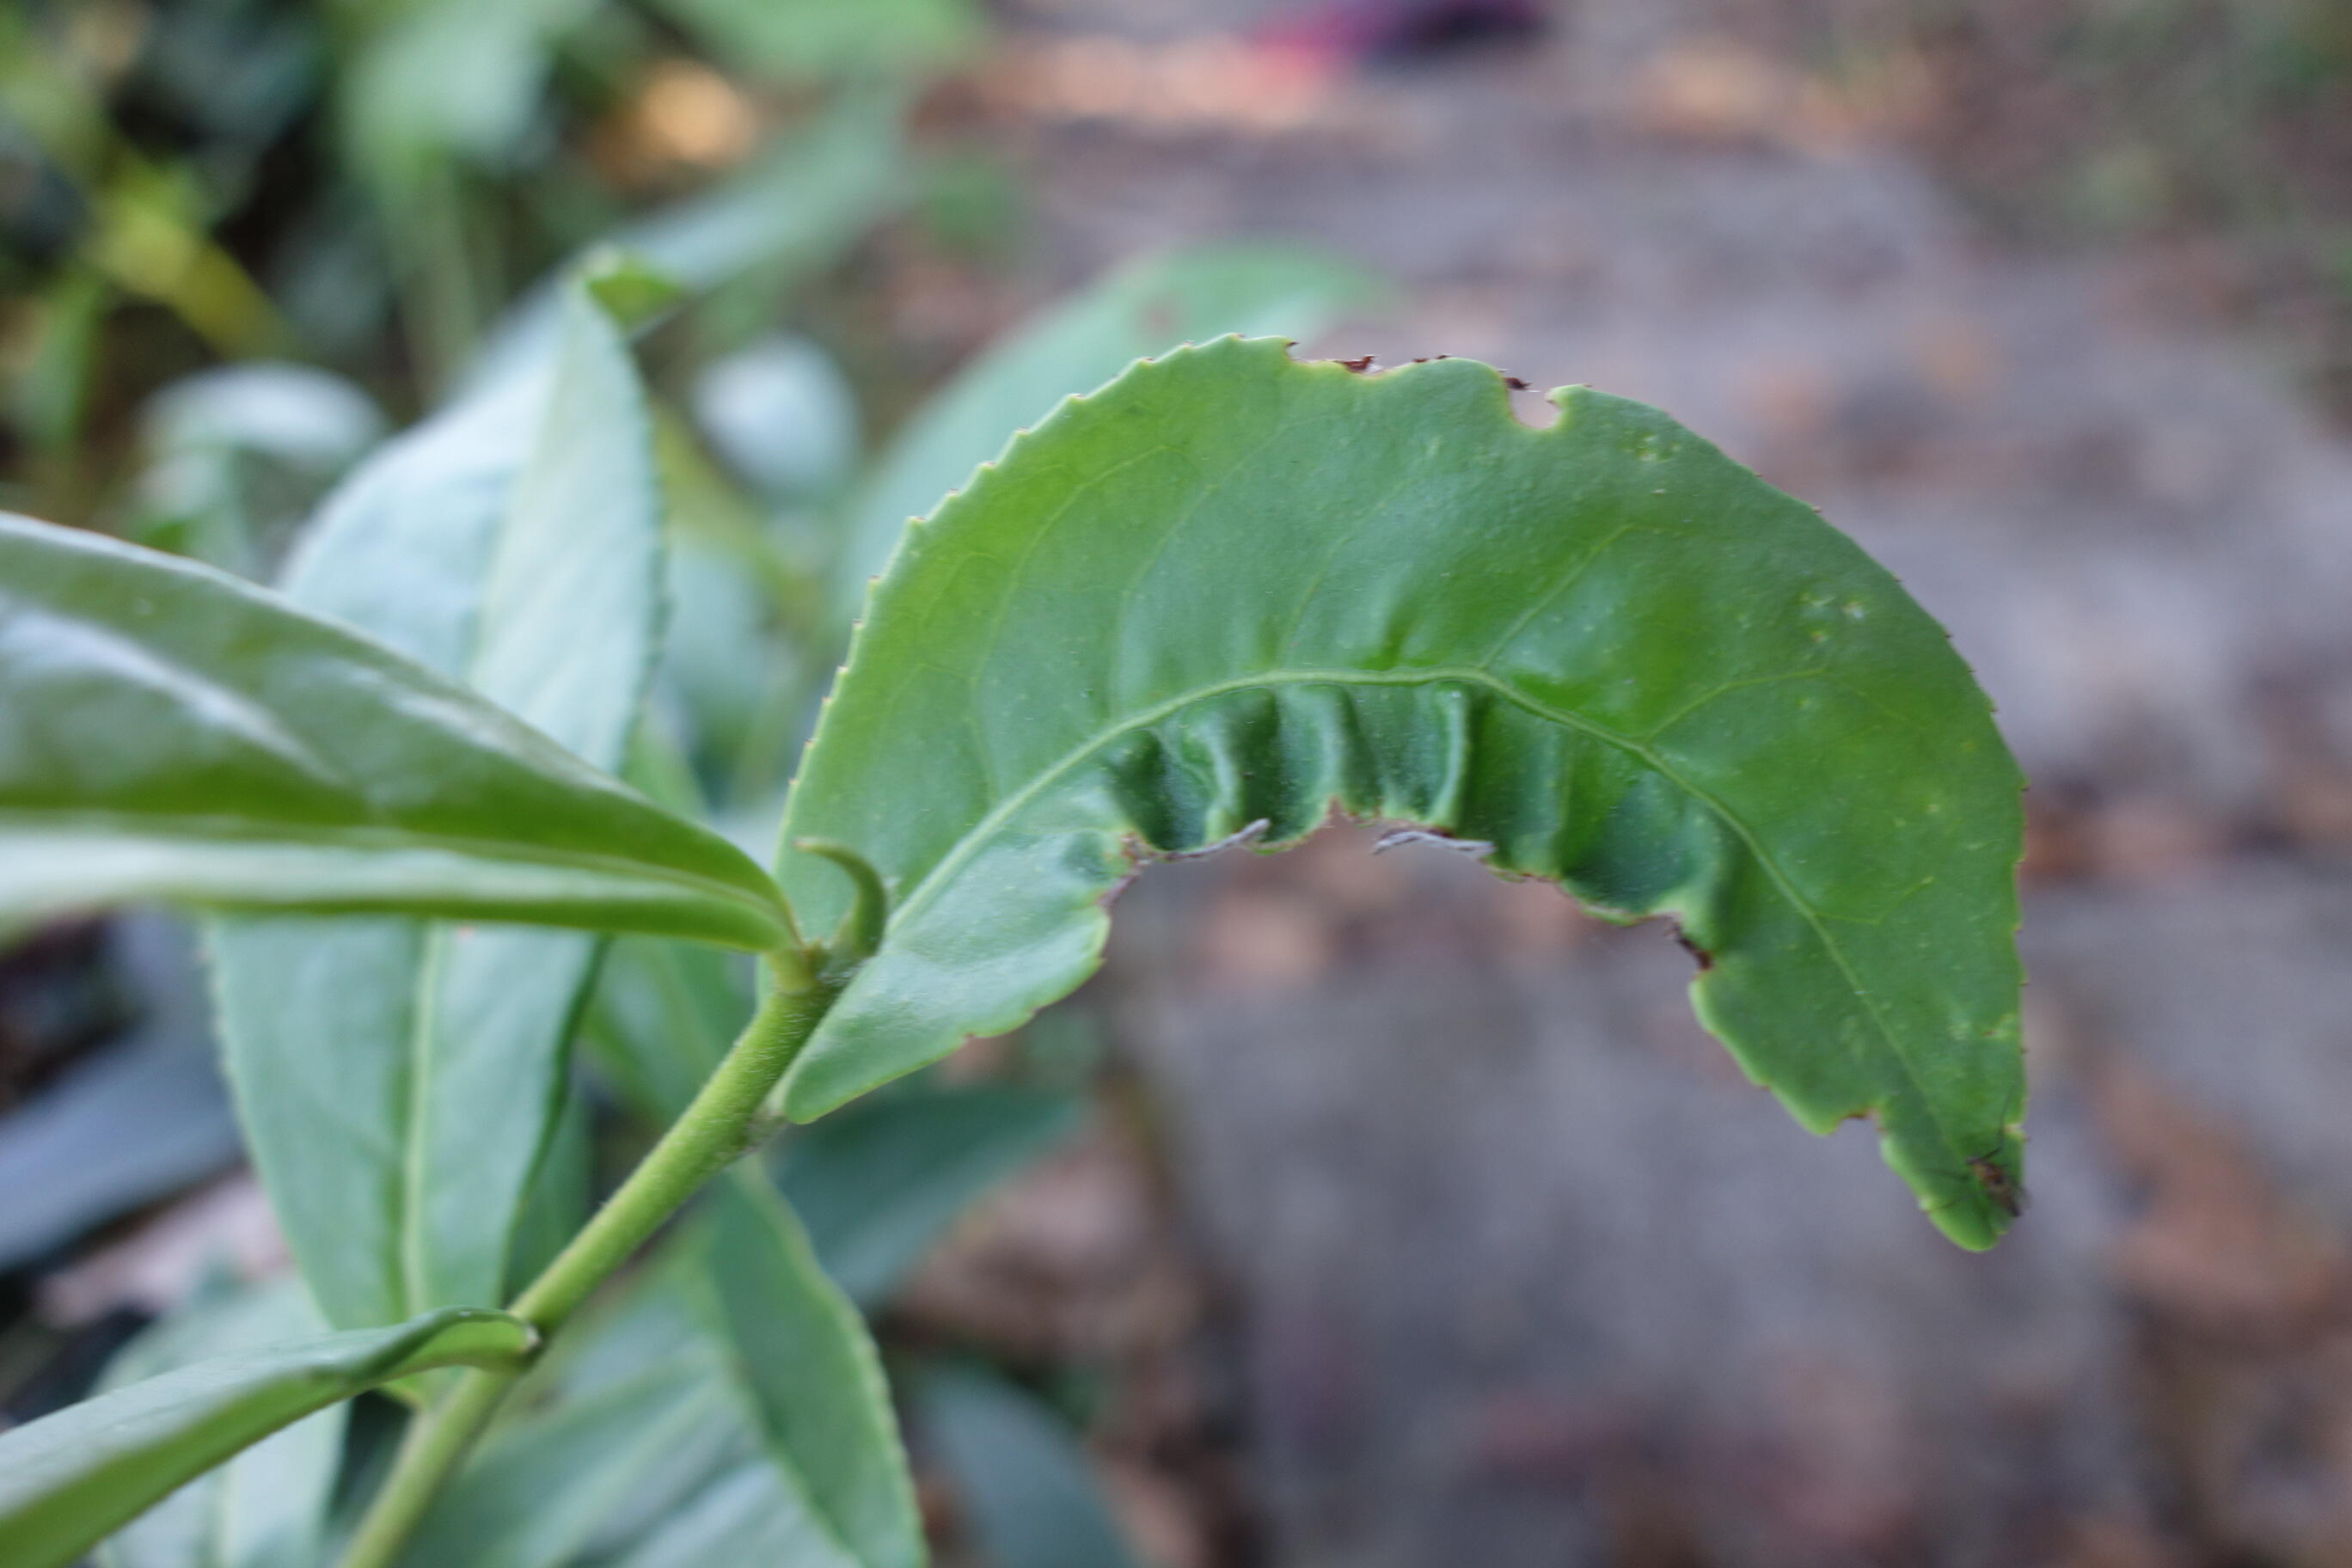chihuo_high: (765, 329, 2035, 1253)
